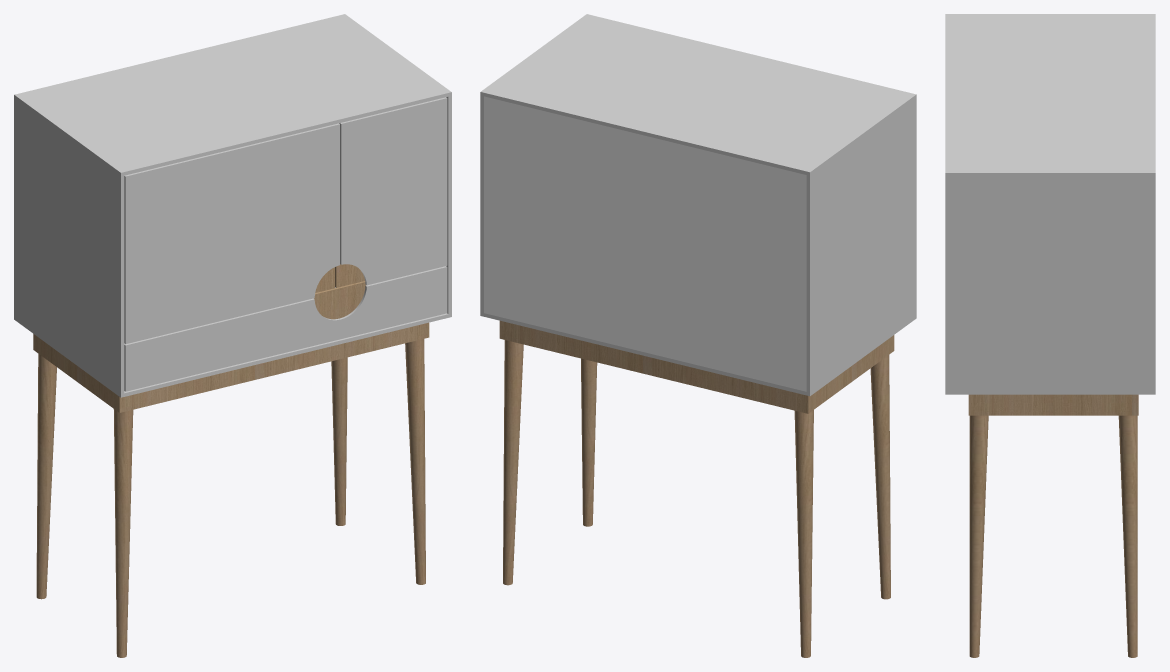
File: moden_cab.obj
The picture shows the model from 3 angles, left to right: view 1: azimuth 30°, elevation 25°; view 2: azimuth 150°, elevation 25°; view 3: azimuth 270°, elevation 25°; orthographic projection.
Parts seen in each view (by area): view 1: Mesh8 Group8 Modern_cabinet1 Model, Mesh1 Group1 Modern_cabinet1 Model, Mesh4 Group4 Modern_cabinet1 Model, Mesh3 Group3 Modern_cabinet1 Model, Mesh7 Group7 Modern_cabinet1 Model, Mesh13 Component_1_4 Modern_cabinet1 Model, Mesh10 Component_1_1 Modern_cabinet1 Model, Mesh11 Component_1_2 Modern_cabinet1 Model, Mesh12 Component_1_3 Modern_cabinet1 Model, Mesh2 Group2 Modern_cabinet1 Model; view 2: Mesh9 Group9 Modern_cabinet1 Model, Mesh8 Group8 Modern_cabinet1 Model, Mesh7 Group7 Modern_cabinet1 Model, Mesh11 Component_1_2 Modern_cabinet1 Model, Mesh12 Component_1_3 Modern_cabinet1 Model, Mesh13 Component_1_4 Modern_cabinet1 Model, Mesh10 Component_1_1 Modern_cabinet1 Model; view 3: Mesh8 Group8 Modern_cabinet1 Model, Mesh7 Group7 Modern_cabinet1 Model, Mesh10 Component_1_1 Modern_cabinet1 Model, Mesh12 Component_1_3 Modern_cabinet1 Model.
Part boxes in pixels (left/top/right/bottom): Mesh8 Group8 Modern_cabinet1 Model: left=14, top=14, right=451, bottom=397; Mesh1 Group1 Modern_cabinet1 Model: left=124, top=123, right=339, bottom=344; Mesh4 Group4 Modern_cabinet1 Model: left=339, top=97, right=447, bottom=285; Mesh3 Group3 Modern_cabinet1 Model: left=124, top=266, right=447, bottom=391; Mesh7 Group7 Modern_cabinet1 Model: left=33, top=322, right=429, bottom=412; Mesh13 Component_1_4 Modern_cabinet1 Model: left=113, top=409, right=133, bottom=657; Mesh10 Component_1_1 Modern_cabinet1 Model: left=405, top=339, right=425, bottom=584; Mesh11 Component_1_2 Modern_cabinet1 Model: left=36, top=354, right=56, bottom=599; Mesh12 Component_1_3 Modern_cabinet1 Model: left=331, top=357, right=347, bottom=525; Mesh2 Group2 Modern_cabinet1 Model: left=314, top=281, right=365, bottom=319; Mesh9 Group9 Modern_cabinet1 Model: left=484, top=96, right=806, bottom=391; Mesh8 Group8 Modern_cabinet1 Model: left=480, top=14, right=916, bottom=396; Mesh7 Group7 Modern_cabinet1 Model: left=499, top=320, right=894, bottom=413; Mesh11 Component_1_2 Modern_cabinet1 Model: left=794, top=410, right=813, bottom=657; Mesh12 Component_1_3 Modern_cabinet1 Model: left=503, top=340, right=523, bottom=585; Mesh13 Component_1_4 Modern_cabinet1 Model: left=870, top=355, right=890, bottom=599; Mesh10 Component_1_1 Modern_cabinet1 Model: left=581, top=358, right=597, bottom=526; Mesh8 Group8 Modern_cabinet1 Model: left=945, top=14, right=1155, bottom=394; Mesh7 Group7 Modern_cabinet1 Model: left=968, top=394, right=1138, bottom=415; Mesh10 Component_1_1 Modern_cabinet1 Model: left=969, top=415, right=988, bottom=657; Mesh12 Component_1_3 Modern_cabinet1 Model: left=1118, top=415, right=1137, bottom=657.
Size of the model in its own units: 57.07 by 82.02 by 31.9.
Materials: 3 (1 with a texture image).
